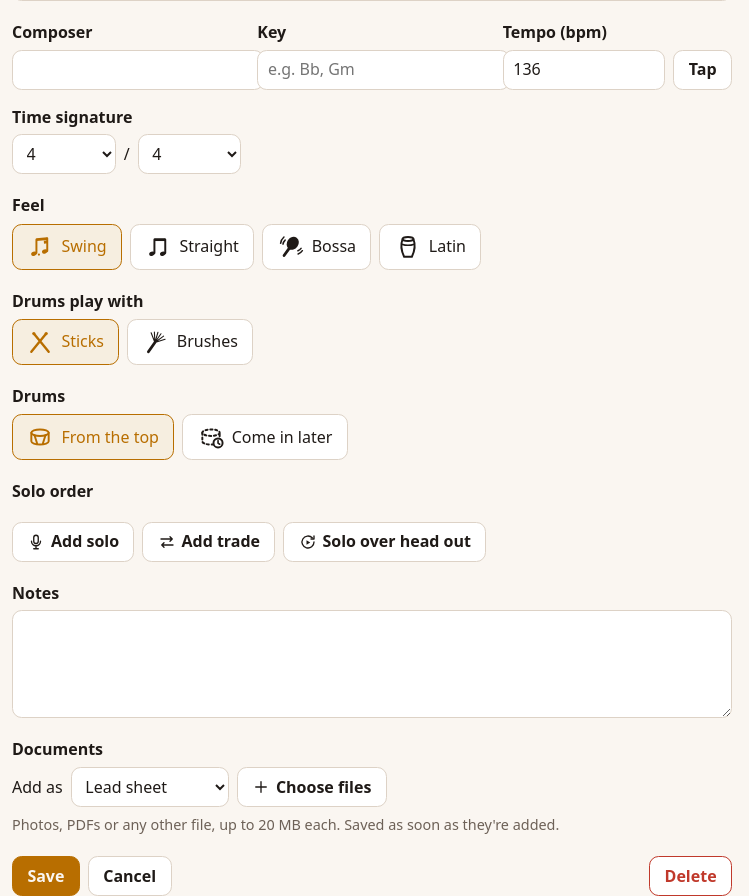
Test case: ArrangementEditPage leaving the form › stays on the form and shows the error when saving fails
The width and height of the screenshot is (749, 896).
(page scrolled)
Click the button "Save" at (46, 876), box 12,856 -> 80,895
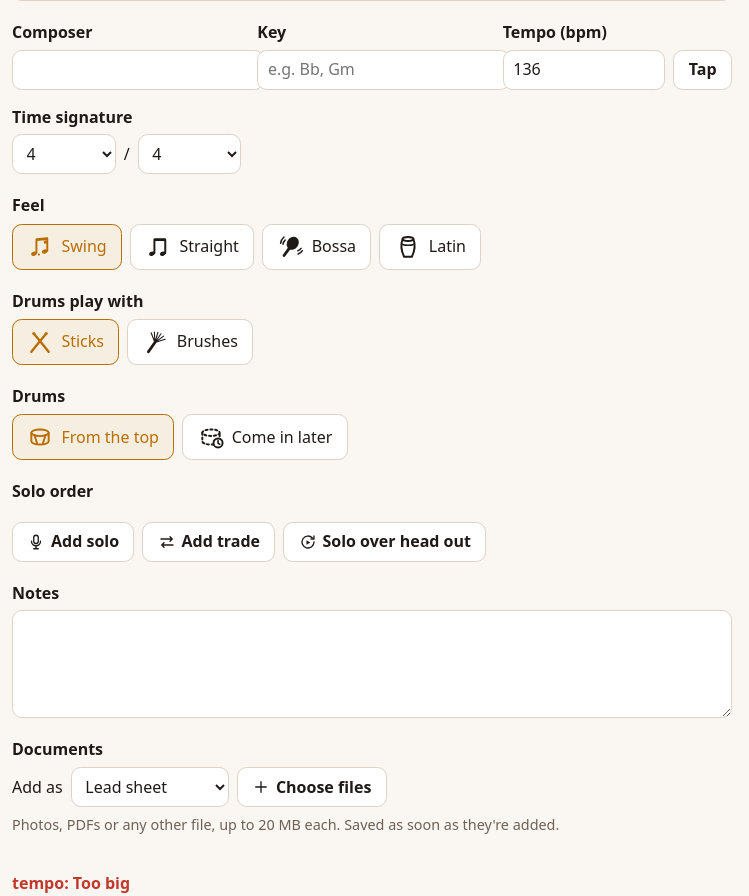
Check: the text "tempo: Too big" is shown, box 12,872 -> 130,894
